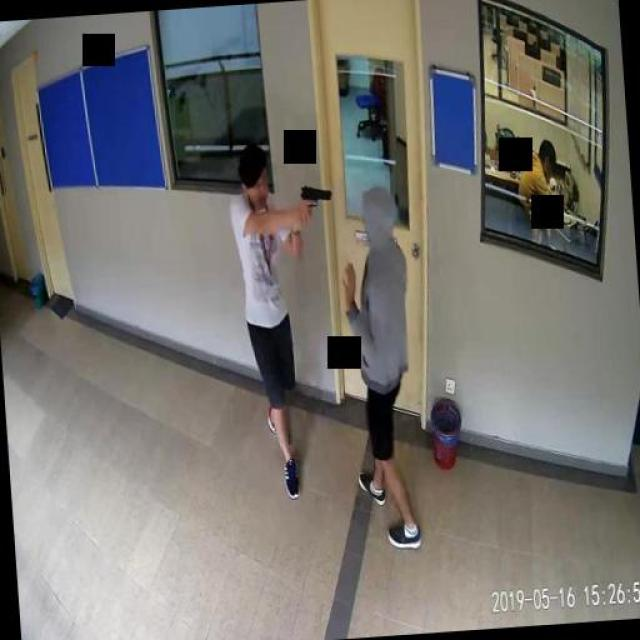gun: (300, 180, 332, 220)
